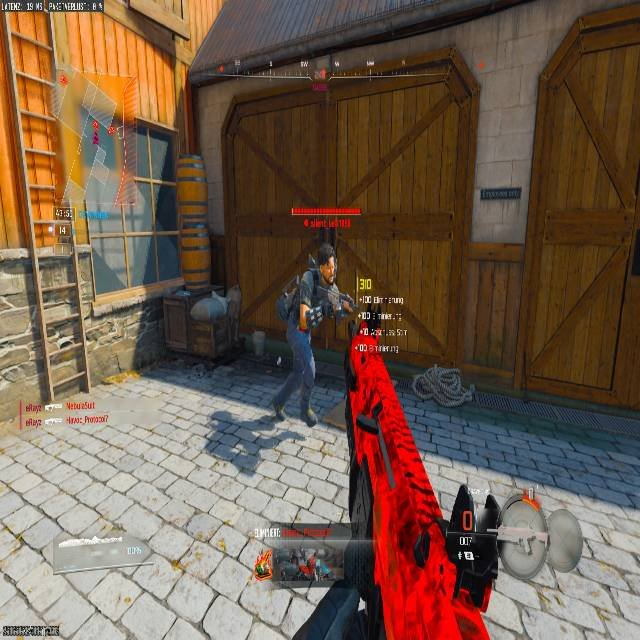head: (316, 242, 337, 283), (314, 230, 336, 268), (305, 230, 329, 261), (308, 228, 323, 248)
player: (273, 241, 355, 424), (289, 230, 340, 311)
